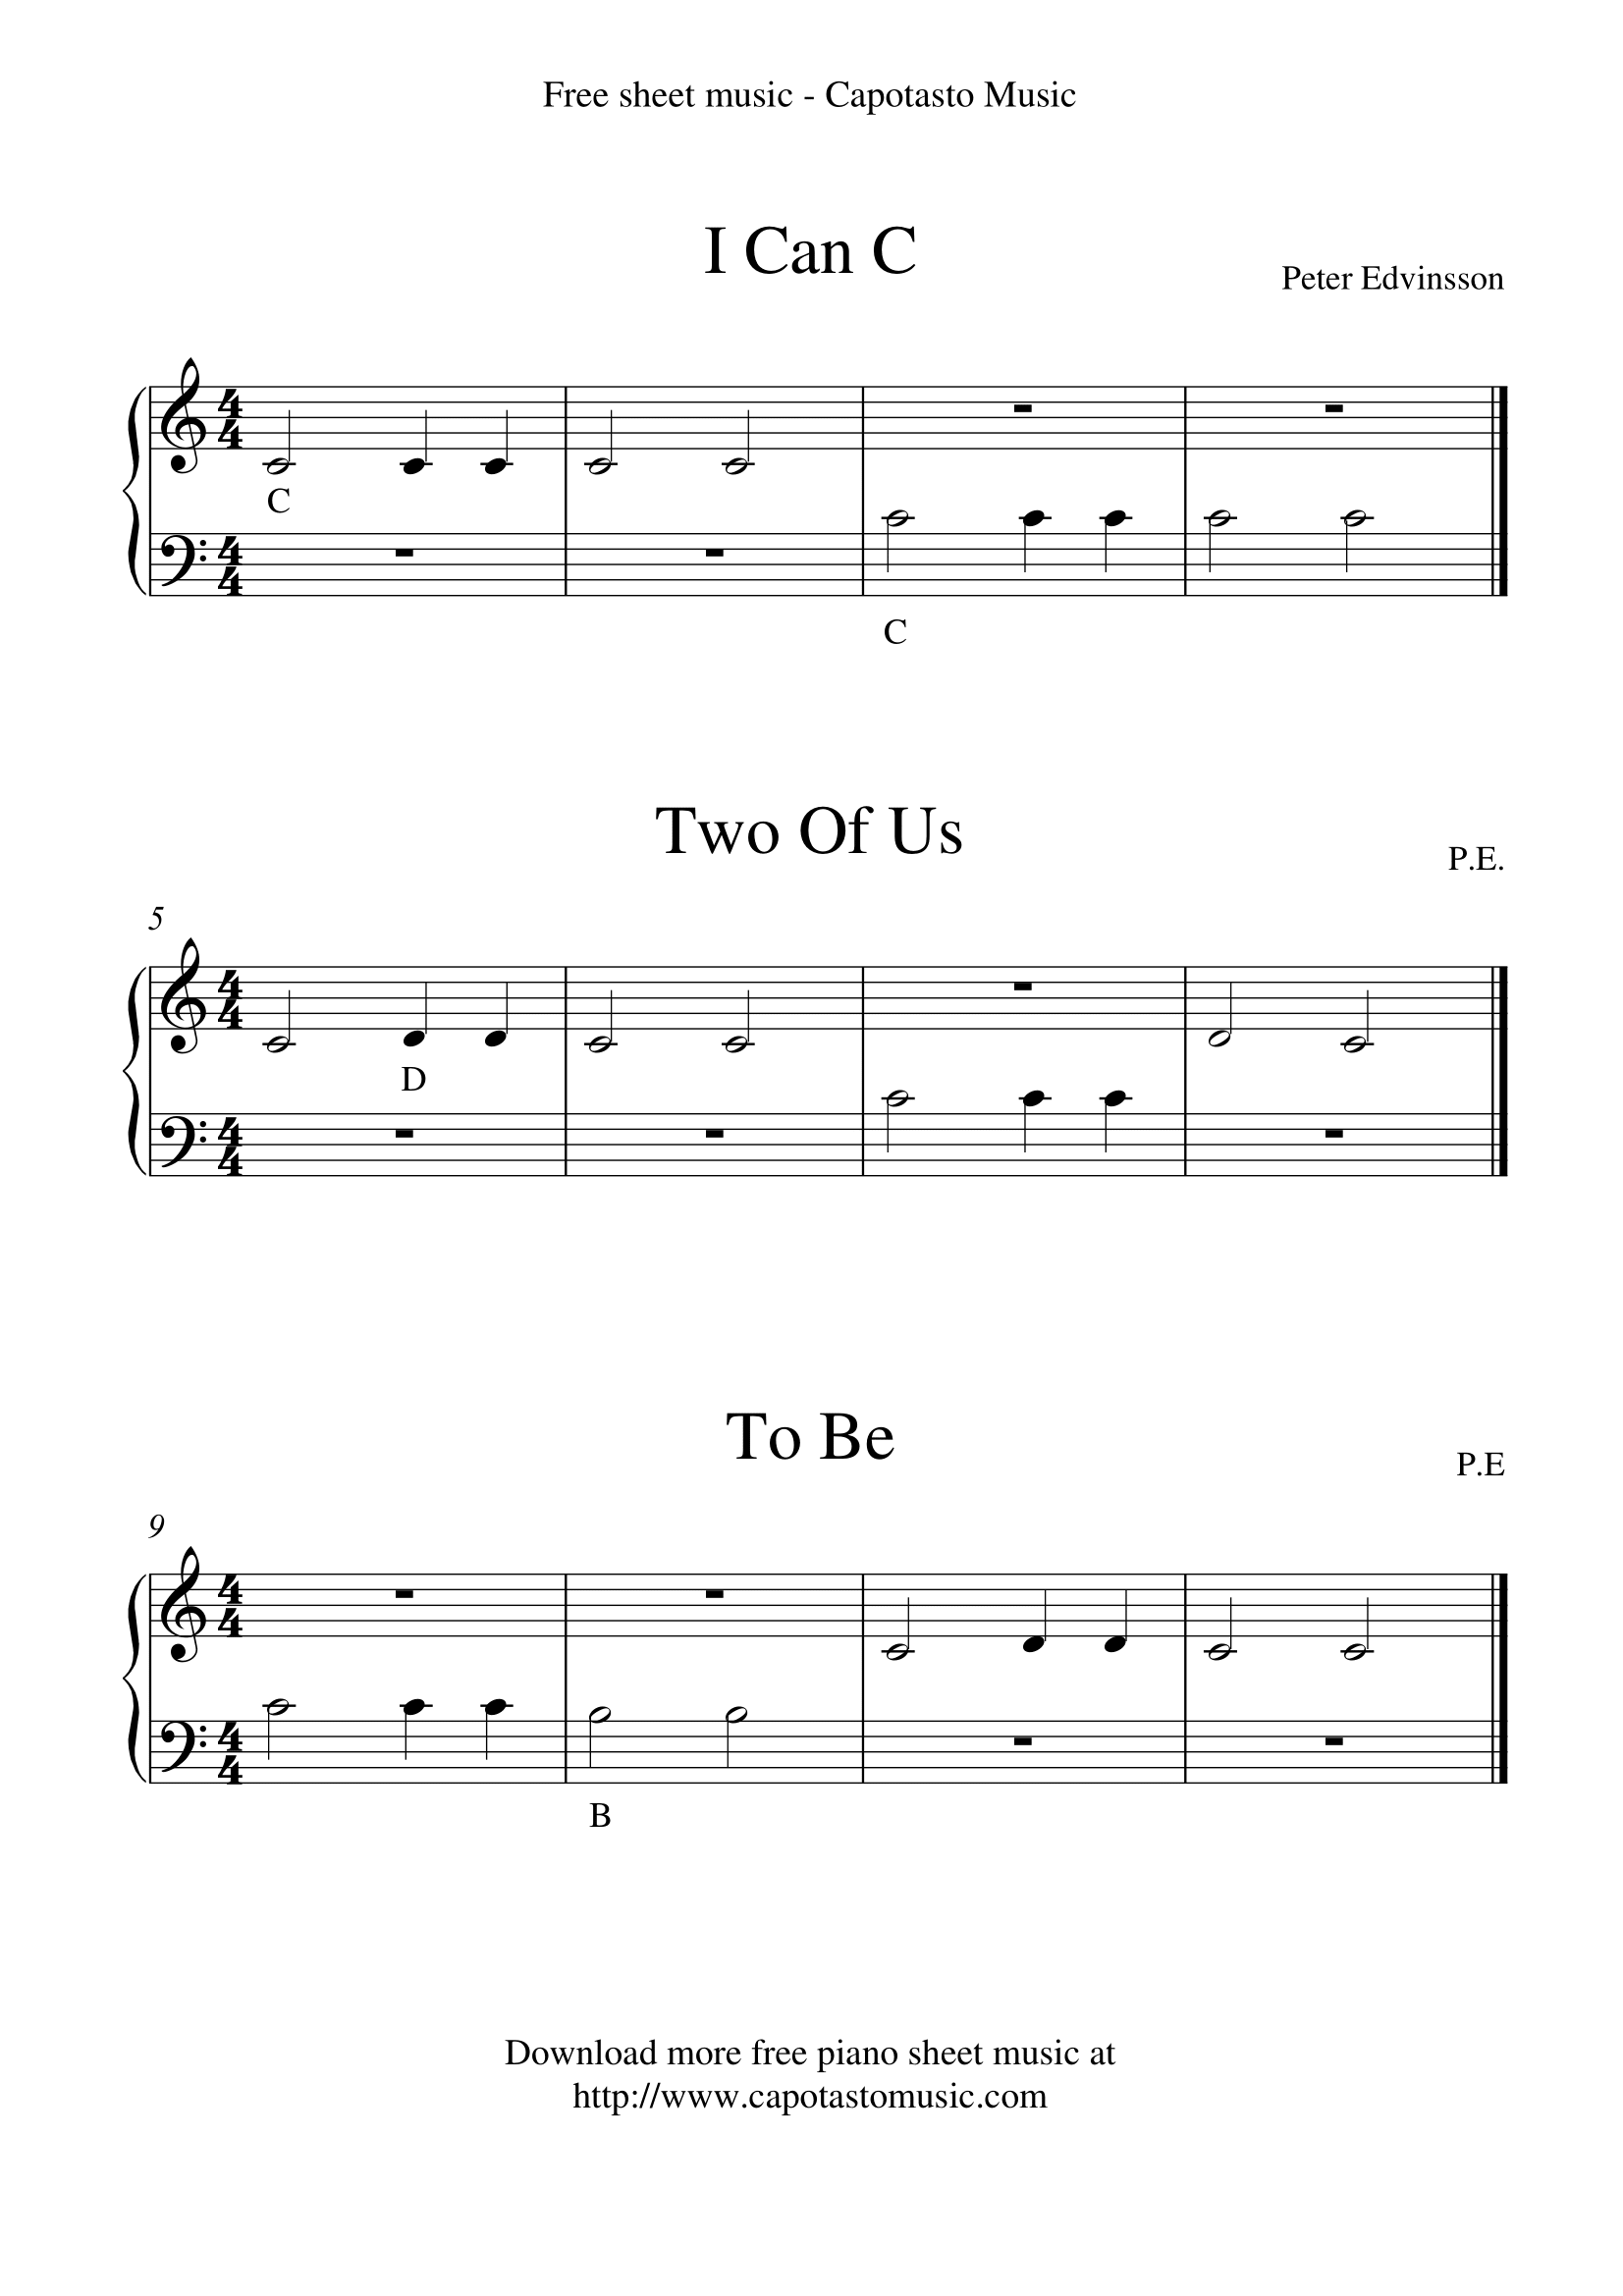half: (573, 383, 666, 476), (1321, 497, 1379, 604), (256, 972, 314, 1067), (717, 390, 769, 493), (713, 965, 764, 1067), (1198, 1573, 1247, 1675), (1335, 1580, 1384, 1682), (583, 965, 631, 1067), (255, 1687, 302, 1785), (710, 1692, 754, 1792), (260, 386, 307, 477), (1203, 969, 1245, 1071), (880, 1576, 922, 1675), (1340, 969, 1379, 1076), (875, 1083, 917, 1178), (578, 1694, 618, 1785), (878, 507, 913, 595), (1201, 504, 1233, 590)
quarter: (476, 386, 529, 497), (390, 386, 444, 491), (1001, 500, 1056, 599), (1012, 1571, 1064, 1666), (467, 1685, 516, 1785), (476, 964, 520, 1067), (1008, 1074, 1052, 1178), (1089, 1076, 1135, 1174), (386, 1692, 434, 1785), (397, 969, 441, 1064), (1089, 497, 1128, 604), (1100, 1573, 1138, 1671)
